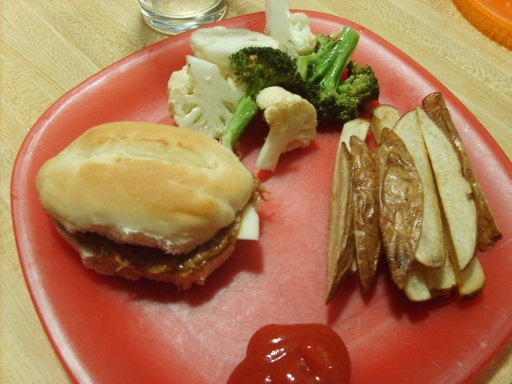background: (28, 0, 402, 183), (102, 37, 282, 230)
